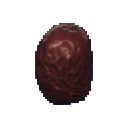gd: (24, 7, 112, 128)
